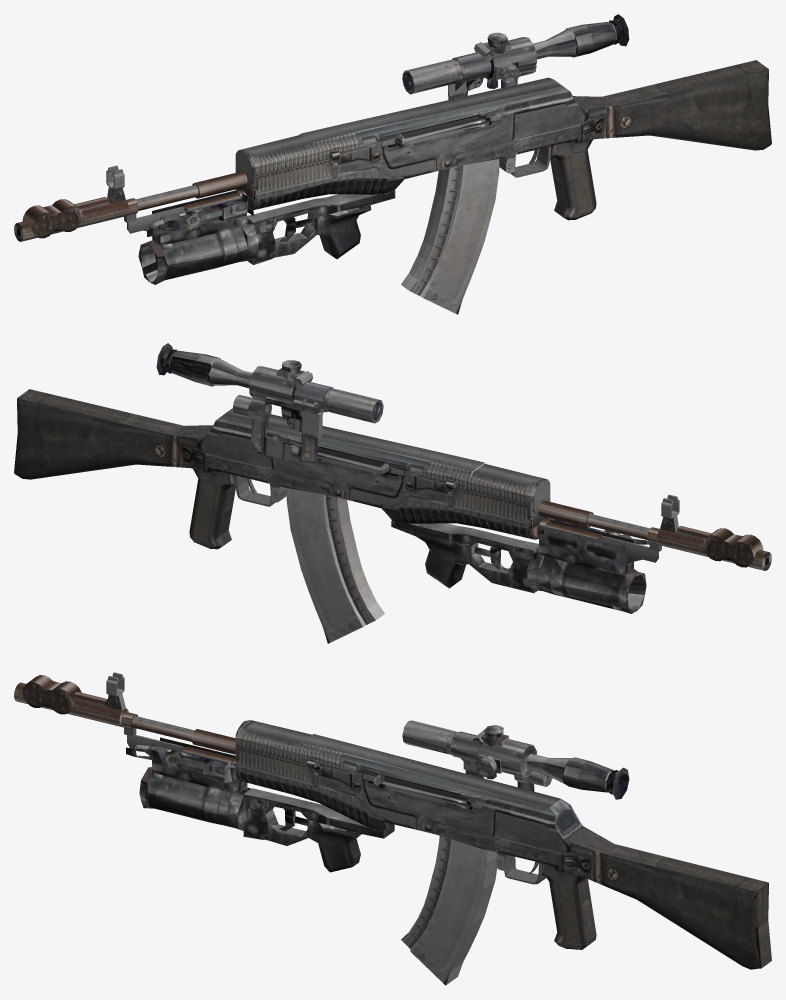
Rendered from w_an94_pso_gp.obj.
3 views of the same model, one above another, from view 1: azimuth 30°, elevation 25°; view 2: azimuth 150°, elevation 25°; view 3: azimuth 330°, elevation 25° (orthographic).
Parts seen in each view (by area): view 1: Cube, W_Gp25, W_Pso1; view 2: Cube, W_Gp25, W_Pso1; view 3: Cube, W_Gp25, W_Pso1.
Part boxes in pixels (x1,y1,x2,y2): Cube: (14,60,771,314); W_Gp25: (138,189,395,284); W_Pso1: (402,14,629,99); Cube: (14,389,771,643); W_Gp25: (391,518,649,613); W_Pso1: (156,343,383,463); Cube: (14,672,771,985); W_Gp25: (126,737,394,872); W_Pso1: (402,720,629,799).
Bounding box in the file's own units: 17.76 × 5.99 × 1.19.
